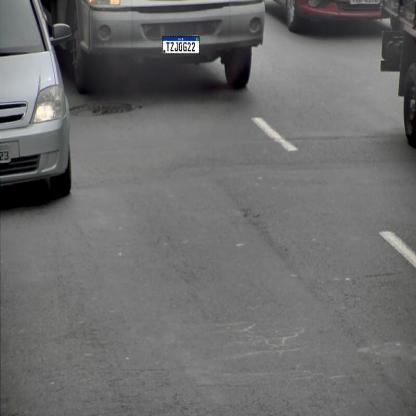PlacaM: (162, 36, 200, 54)
